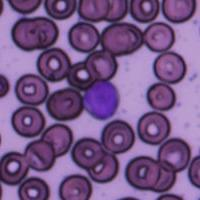L: (83, 79, 120, 121)
